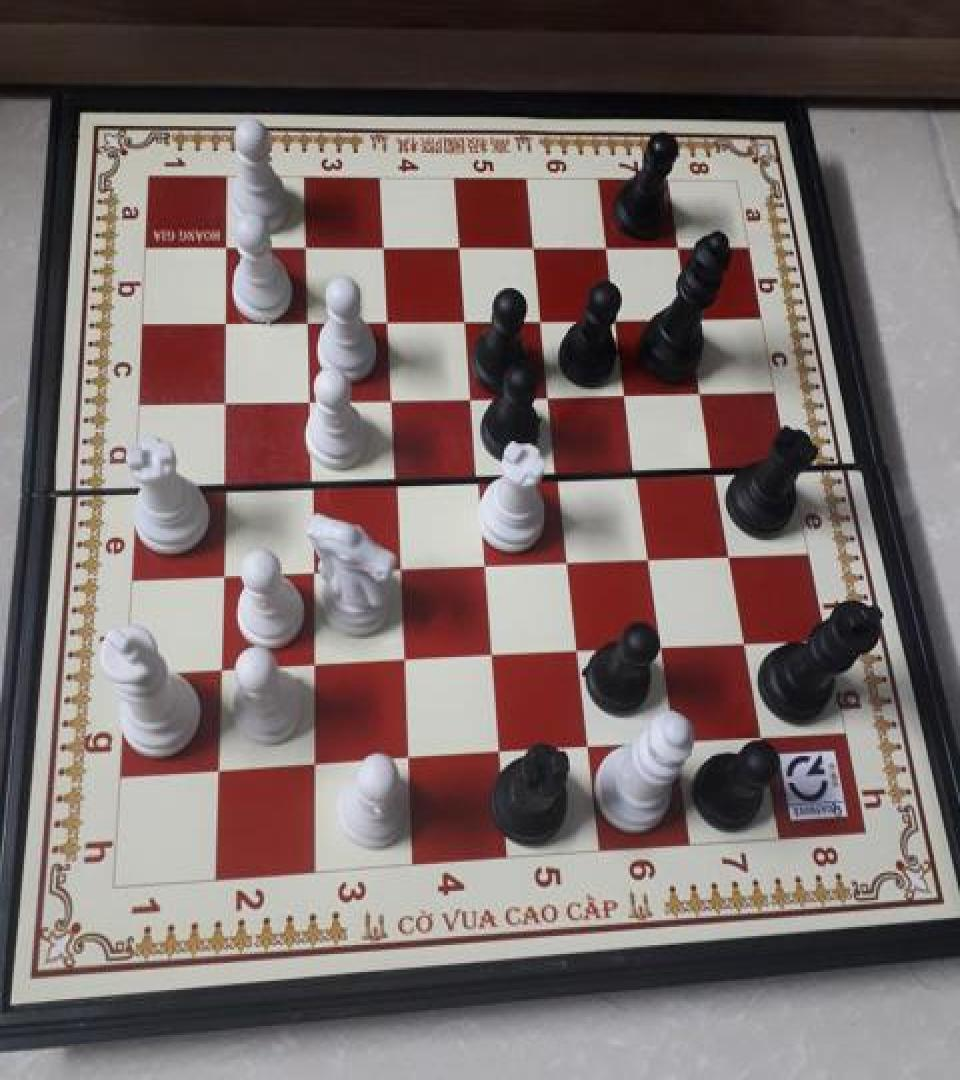xcorner: (633, 536, 665, 573), (381, 545, 413, 582), (482, 732, 514, 769), (661, 228, 693, 264), (589, 227, 621, 263), (516, 227, 548, 263), (441, 227, 473, 263), (365, 227, 397, 263), (288, 227, 320, 263), (209, 227, 241, 263), (673, 298, 705, 334), (599, 298, 631, 334), (524, 298, 556, 334), (447, 299, 479, 335), (369, 299, 401, 335), (289, 300, 321, 336), (207, 300, 239, 336), (686, 371, 718, 407), (610, 372, 642, 408), (532, 374, 564, 410), (453, 374, 485, 410), (372, 377, 404, 413), (290, 378, 322, 414), (206, 379, 238, 415), (699, 450, 731, 486), (621, 452, 653, 488), (541, 454, 573, 490), (460, 456, 492, 492), (376, 458, 408, 494), (291, 460, 323, 496), (205, 462, 237, 498), (714, 533, 746, 569), (551, 539, 583, 575), (466, 542, 498, 578), (293, 549, 325, 585), (203, 551, 235, 587), (729, 622, 761, 658), (646, 626, 678, 662), (561, 630, 593, 666), (474, 634, 506, 670), (385, 639, 417, 675), (295, 642, 327, 678), (202, 647, 234, 683), (745, 718, 777, 754), (659, 722, 691, 758), (572, 728, 604, 764), (390, 738, 422, 774), (296, 744, 328, 780), (200, 749, 232, 785)
